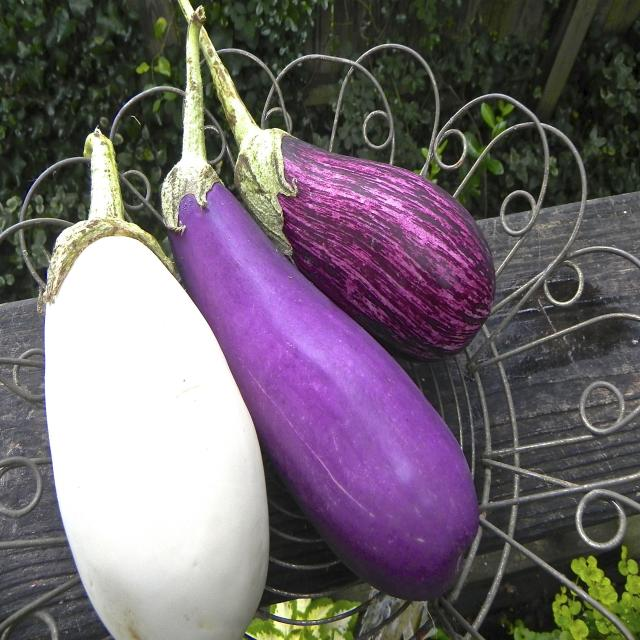eggplant: (40, 225, 270, 640), (246, 129, 497, 331), (351, 370, 483, 604)
